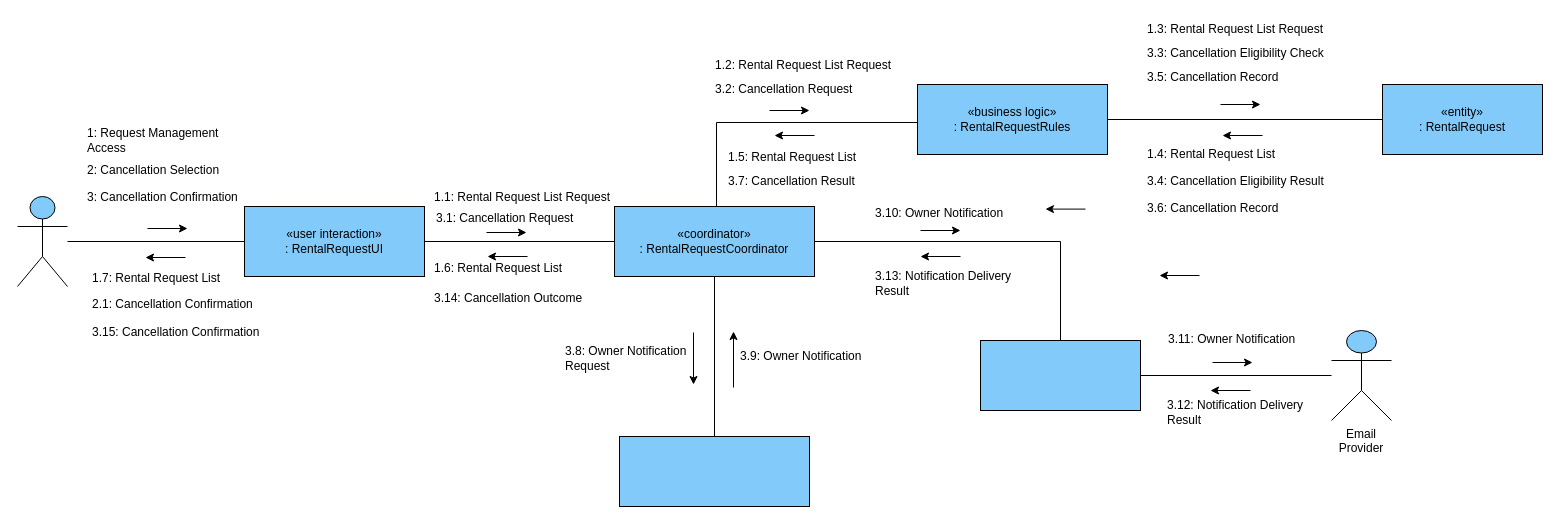
The diagram is 1560 pixels wide and 524 high, and some of its shapes have lost their labels. The shapes that lost their labels are listed below. From the top down, each one's centre as x and y in pixels, then its label:
At pixel 42 241: "Tenant".
At pixel 1060 375: "«proxy» : EmailProxy".
At pixel 714 471: "«service» : NotificationService".
